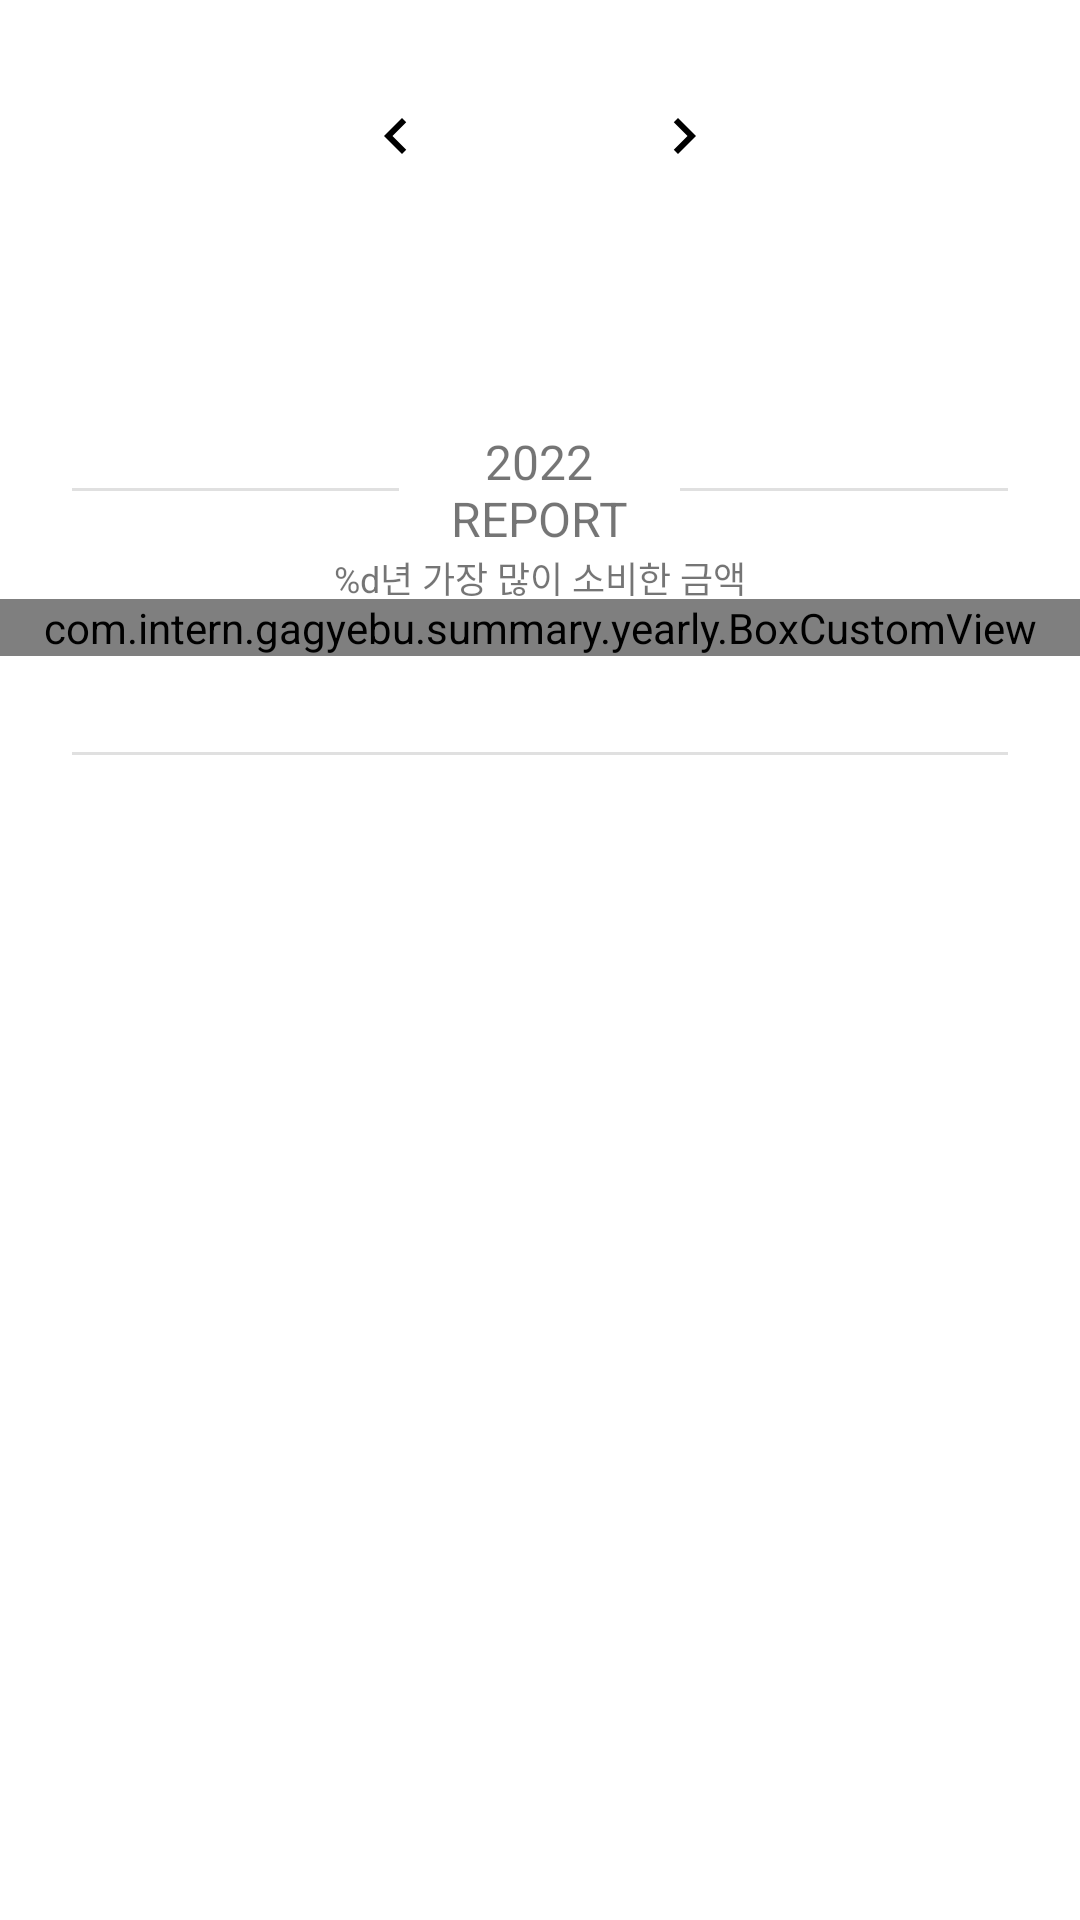

Named icons in this screenshot (1080px x 1920px) and their bounding boxes, (x1, y1, x2, y2):
next: (674, 118, 696, 154)
prev: (384, 118, 406, 154)
